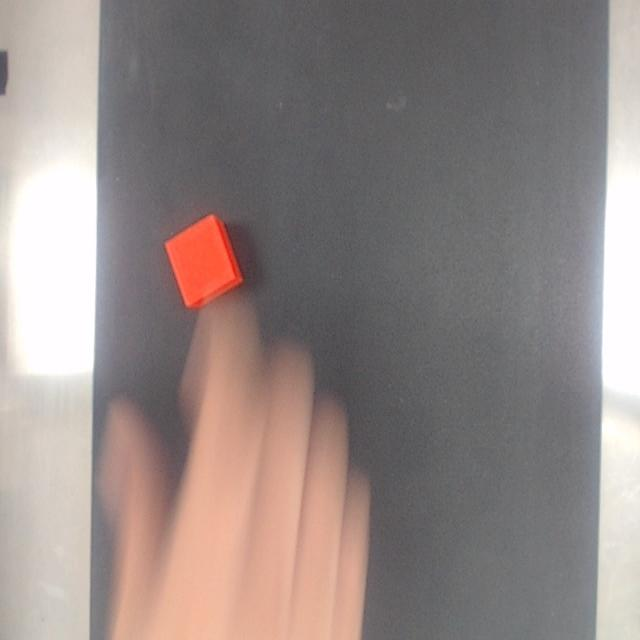Rojo: (165, 215, 243, 308)
